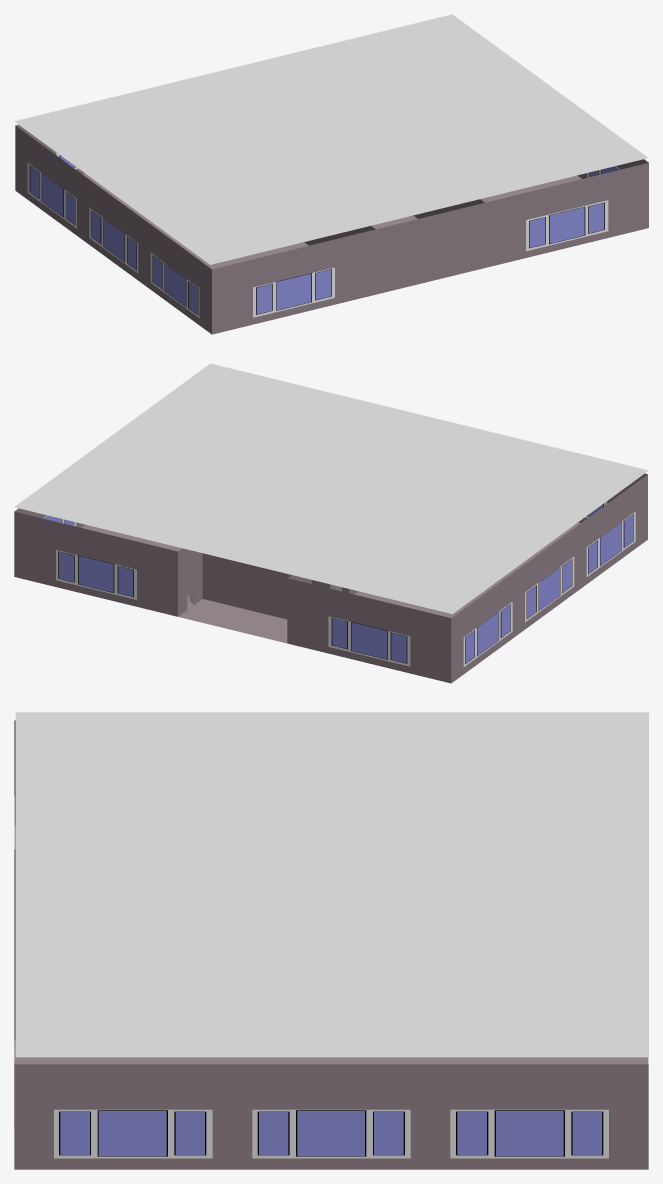
Rendered from Comedor.fbx.
The picture shows the model from 3 angles, top to bottom: view 1: azimuth 30°, elevation 25°; view 2: azimuth 150°, elevation 25°; view 3: azimuth 270°, elevation 25°; orthographic projection. The views are drawn at different scales.
Visible parts, largest first — view 1: Plano.001, Plano, Window.003, Window.001, Window.008, Window.007, Window.009; view 2: Plano.001, Plano, Window, Window.002, Window.009, Window.008, Window.007; view 3: Plano.001, Plano, Window.004, Window.005, Window.006.
Boxes of the visible parts, bbox=[...] form: Plano.001: bbox=[14, 14, 647, 264]; Plano: bbox=[15, 124, 648, 334]; Window.003: bbox=[526, 200, 608, 251]; Window.001: bbox=[253, 267, 334, 317]; Window.008: bbox=[89, 208, 138, 273]; Window.007: bbox=[27, 163, 76, 228]; Window.009: bbox=[150, 253, 199, 318]; Plano.001: bbox=[14, 363, 648, 613]; Plano: bbox=[14, 473, 647, 683]; Window: bbox=[328, 616, 410, 666]; Window.002: bbox=[55, 550, 136, 599]; Window.009: bbox=[586, 511, 635, 576]; Window.008: bbox=[525, 556, 574, 622]; Window.007: bbox=[463, 602, 512, 666]; Plano.001: bbox=[15, 712, 648, 1057]; Plano: bbox=[14, 720, 648, 1169]; Window.004: bbox=[450, 1109, 608, 1158]; Window.005: bbox=[252, 1109, 410, 1158]; Window.006: bbox=[54, 1109, 212, 1158].
Bounding box in the file's own units: 47958 × 7289 × 37295.
